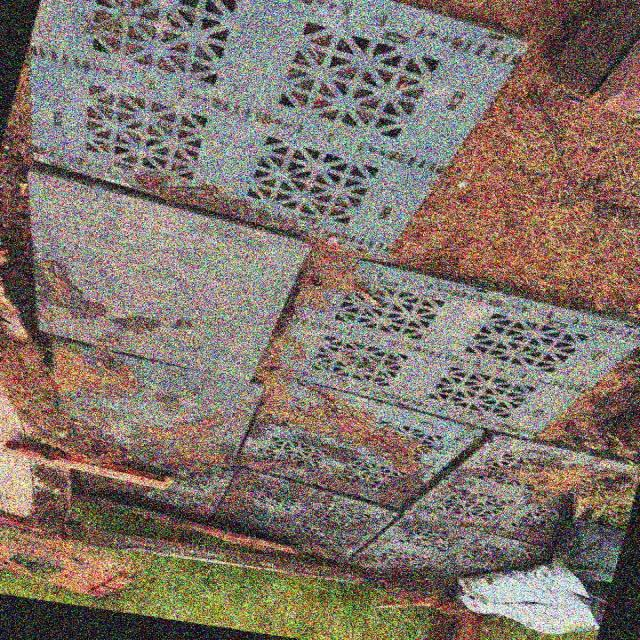non-igps: (2, 0, 637, 262), (259, 254, 639, 444), (17, 164, 320, 387), (224, 369, 495, 517), (395, 430, 639, 555)
